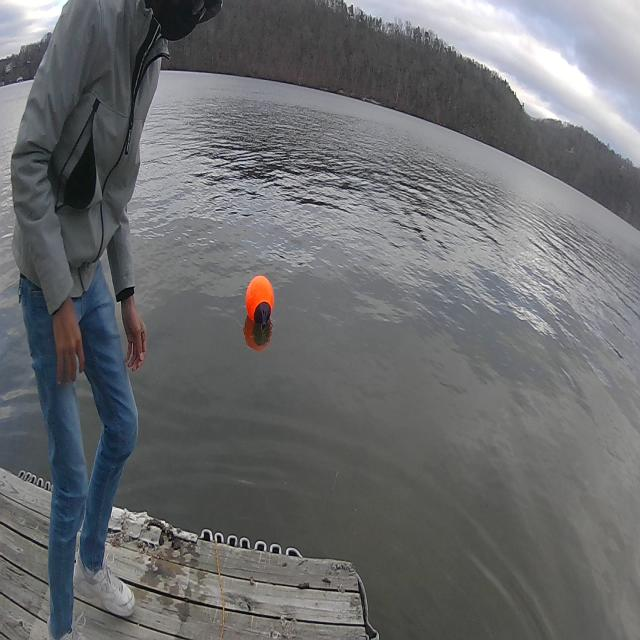Buoy: (242, 269, 276, 354)
